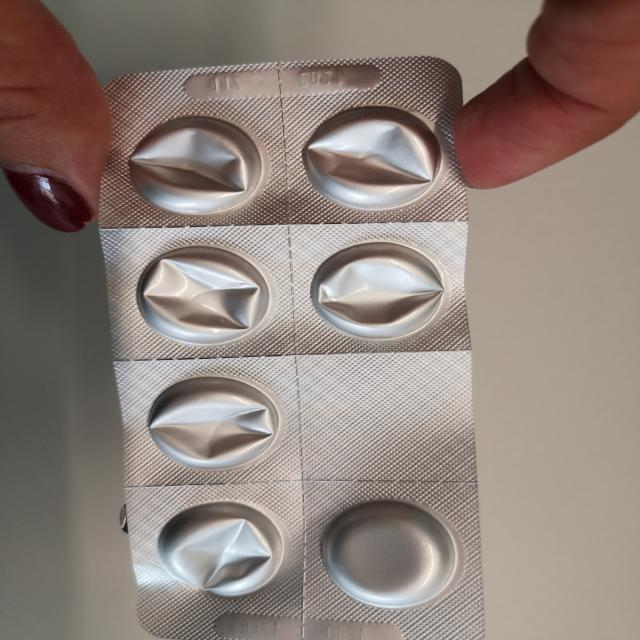Empty: (299, 102, 445, 212), (307, 234, 446, 344), (131, 243, 273, 349), (123, 112, 265, 217), (152, 498, 290, 601), (144, 374, 284, 473)
Pill: (316, 496, 465, 610)
